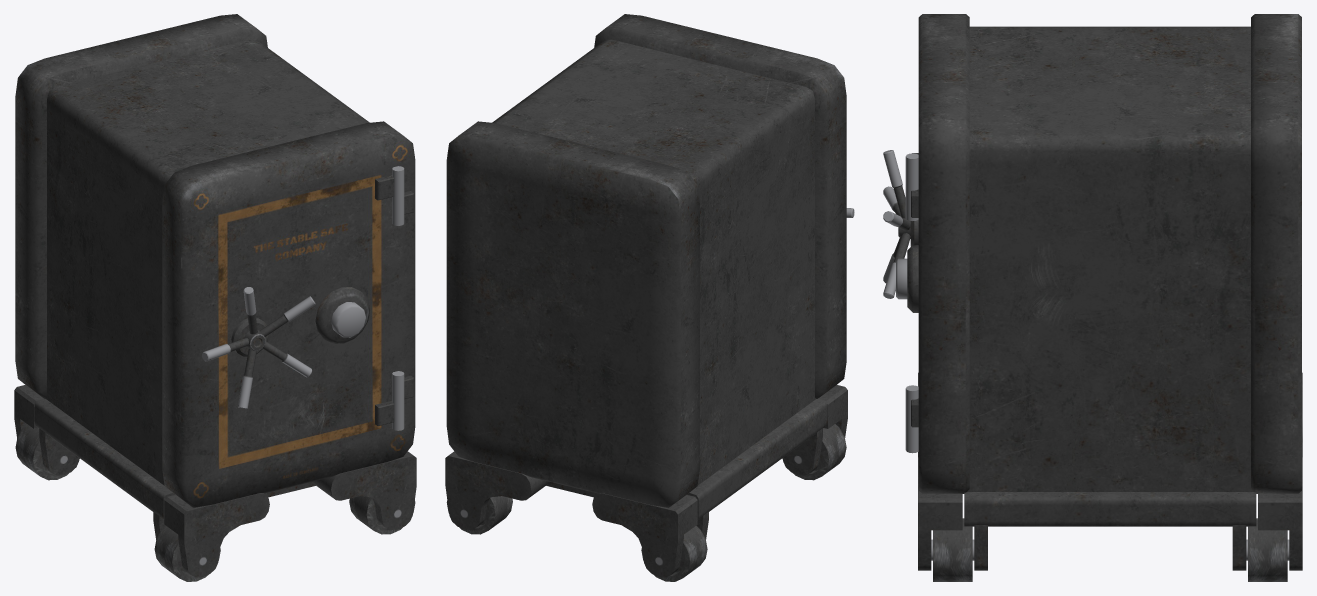
Rendered from antique_iron_safe.glb.
3 views of the same model, side by side, from view 1: azimuth 30°, elevation 25°; view 2: azimuth 150°, elevation 25°; view 3: azimuth 270°, elevation 25° (orthographic). The views are drawn at different scales.
Visible parts, largest first — view 1: Safe_LP; view 2: Safe_LP; view 3: Safe_LP.
Boxes of the visible parts, x1,y1,x2,y2 form: Safe_LP: (14, 14, 416, 581); Safe_LP: (445, 14, 854, 581); Safe_LP: (883, 14, 1302, 581).
Bounding box in the file's own units: 0.3784 × 0.5985 × 0.4989.
1 material, 1 textured.
